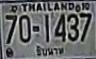0: (19, 14, 30, 42)
1: (44, 14, 48, 42)
3: (67, 14, 78, 40)
4: (54, 13, 65, 41)
7: (5, 14, 17, 43), (80, 12, 90, 41)
CNT: (33, 44, 66, 57)
